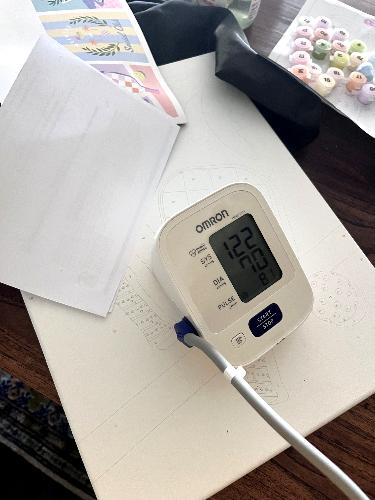bpm: (203, 209, 290, 307)
